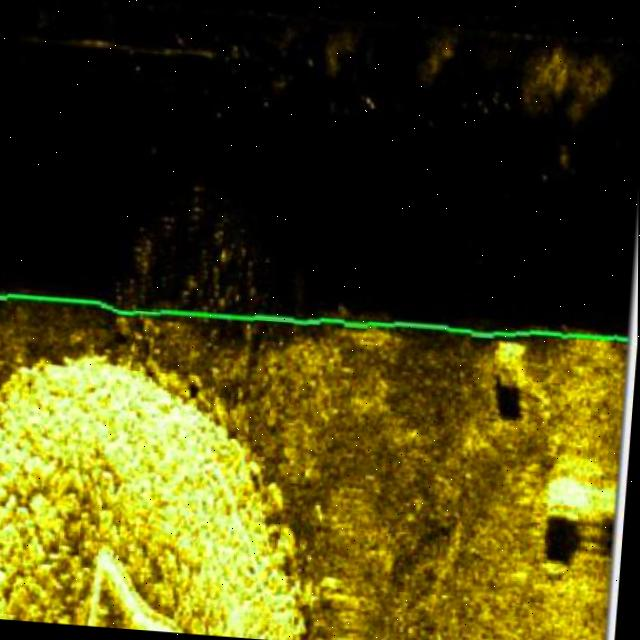bedrock group: (0, 354, 325, 640)
